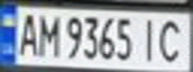3: (81, 12, 100, 61)
5: (115, 14, 139, 62)
6: (97, 14, 118, 62)
9: (60, 12, 84, 60)
A: (12, 9, 42, 56)
C: (154, 16, 190, 63)
I: (136, 15, 163, 63)
M: (33, 11, 60, 57)
